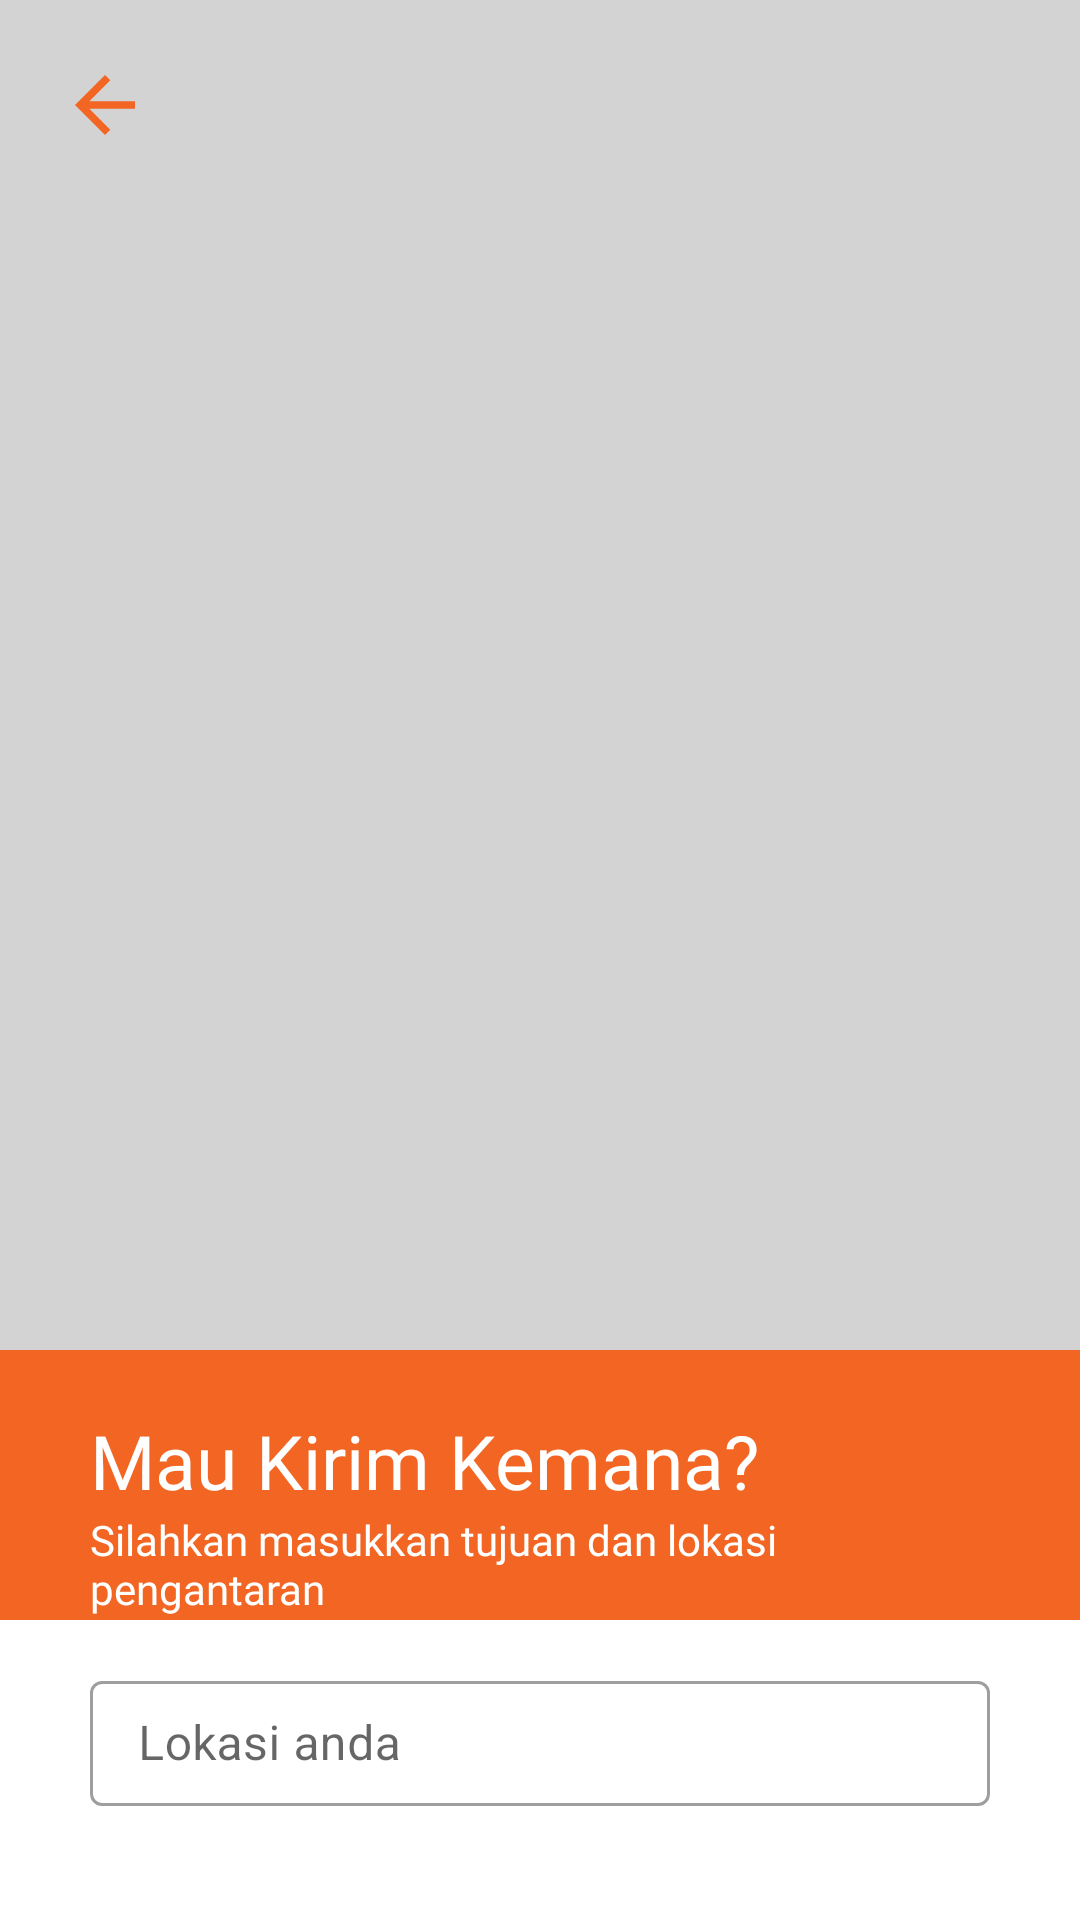

Where icons sit on this 1080 x 1920 app screen, as (x1, y1, x2, y2):
arrow back: (75, 75, 135, 135)
